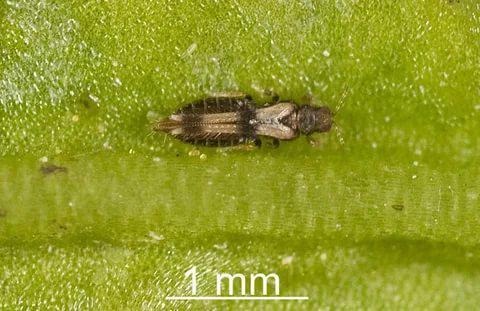tiny_pests: (146, 77, 351, 174)
